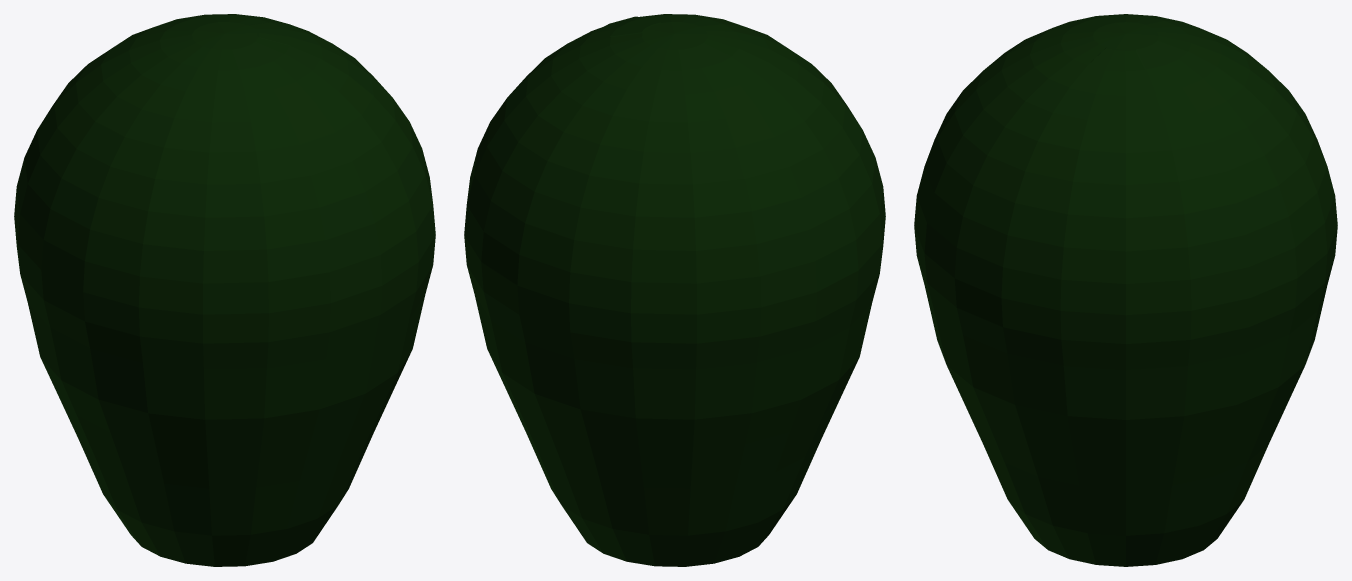
The model's file is avacado.fbx.
3 views of the same model, side by side, from view 1: azimuth 30°, elevation 25°; view 2: azimuth 150°, elevation 25°; view 3: azimuth 270°, elevation 25° (orthographic).
Visible parts, largest first — view 1: pSphere1; view 2: pSphere1; view 3: pSphere1.
Part boxes in pixels (x1,y1,x2,y2): pSphere1: (14, 14, 435, 566); pSphere1: (464, 14, 885, 566); pSphere1: (914, 14, 1337, 566).
Bounding box in the file's own units: 2 × 2.64 × 2.
